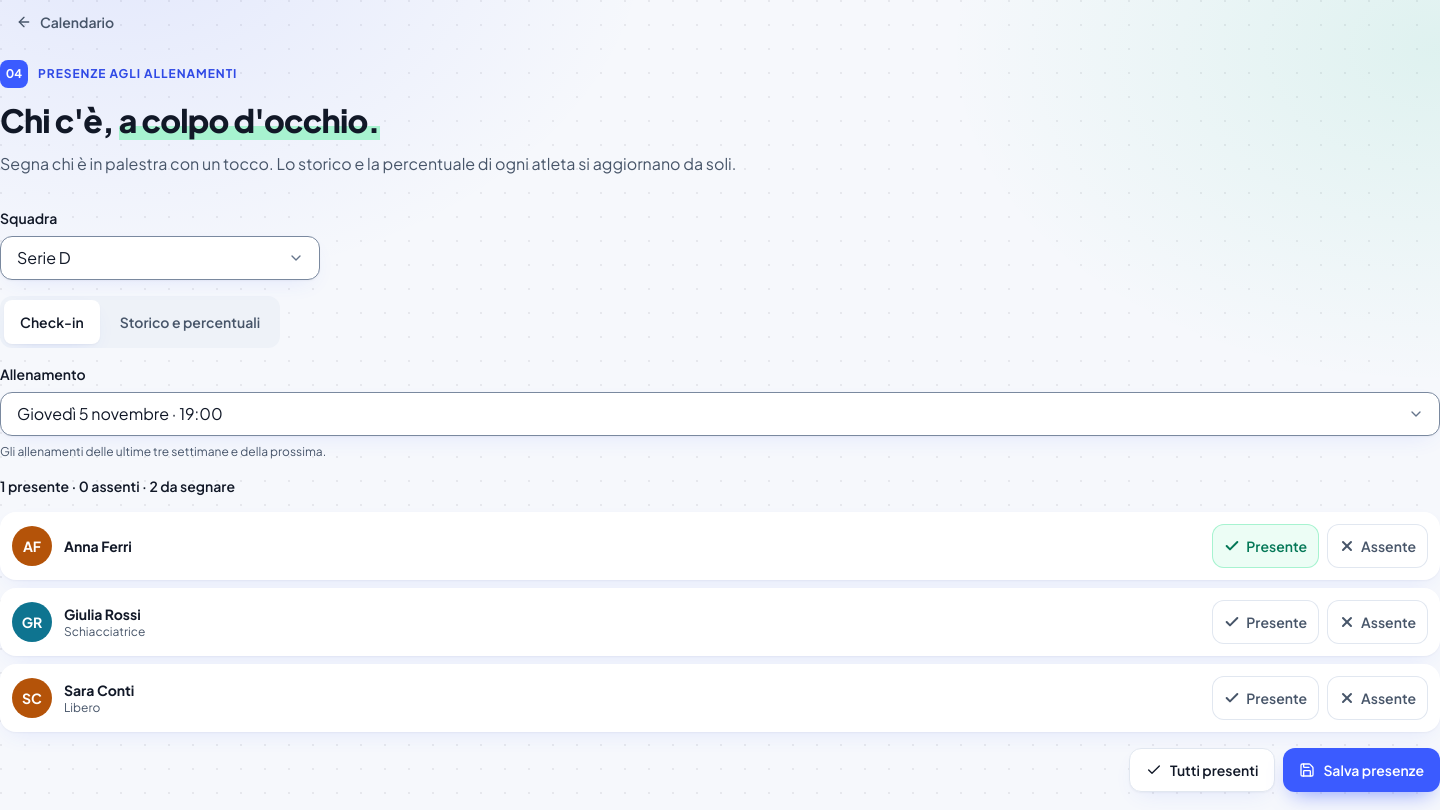
Test: PresenzePage history and percentages › shows the team percentage and one row per athlete
Click the tab "Storico e percentuali".
click(190, 322)  # box [104,300,276,344]
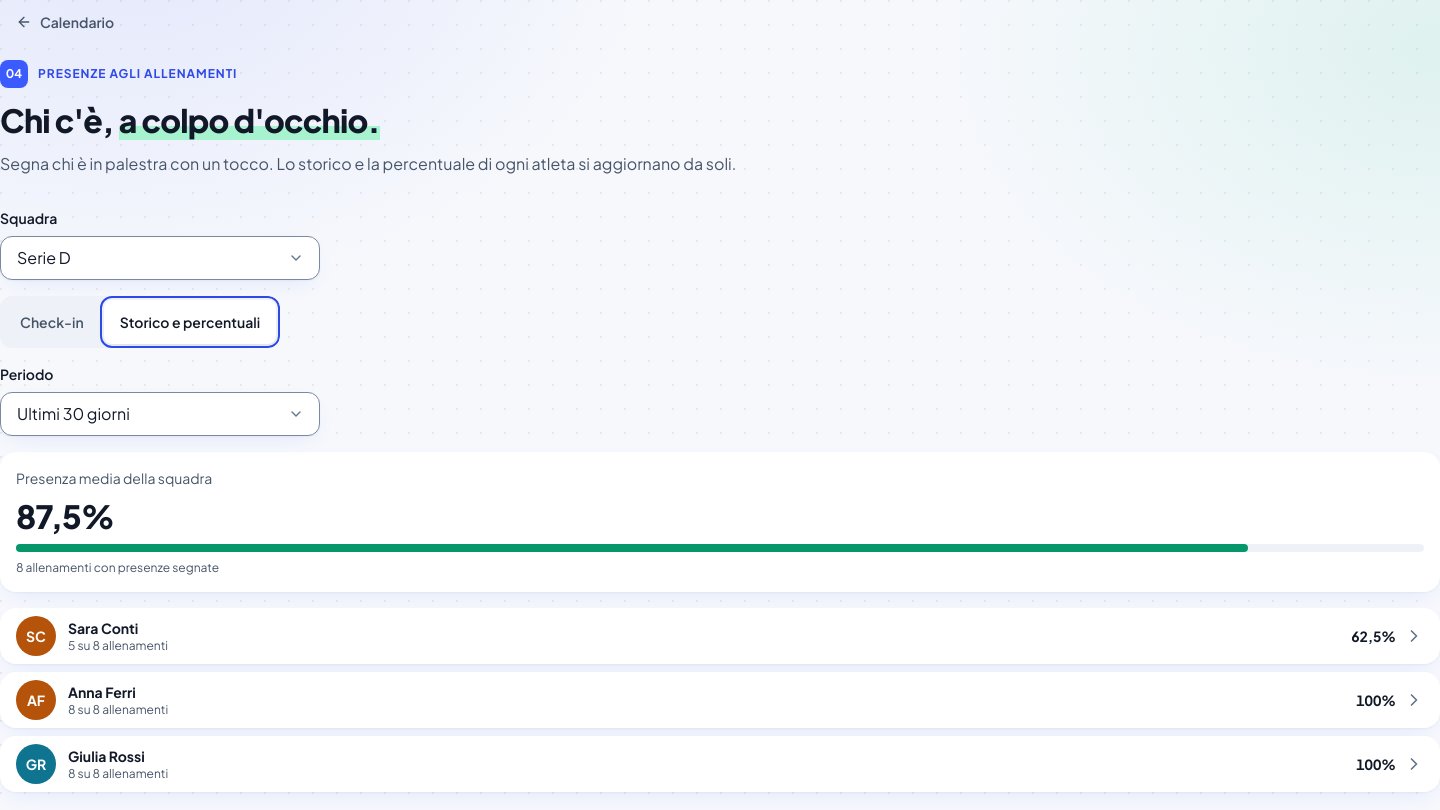
Now the text "87,5%" is shown, box [16,496,114,536]
Now the text "8 allenamenti con presenze segnate" is shown, box [16,560,219,575]
Now the list item "SC Sara Conti 5 su 8 allenamenti 62,5%" is shown, box [0,608,1439,664]
